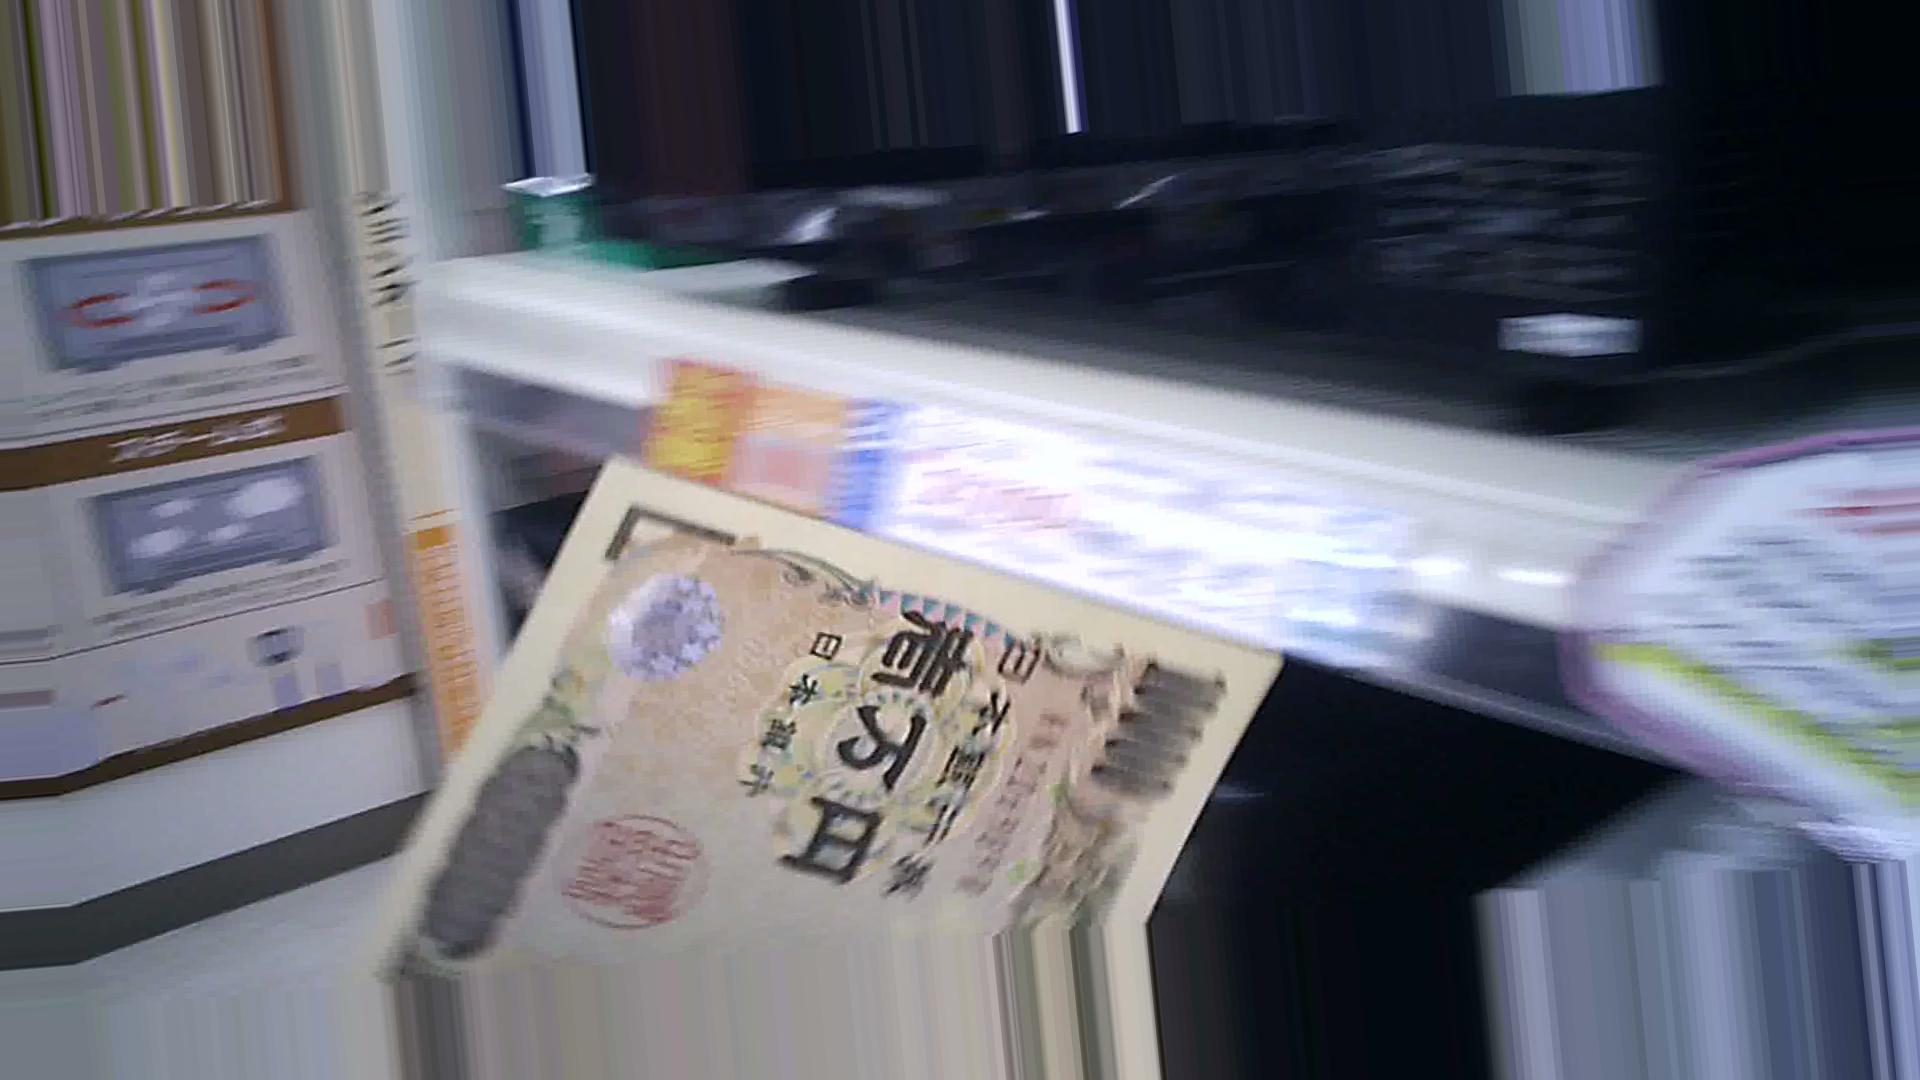10,000 Yen: (373, 462, 1242, 942)
